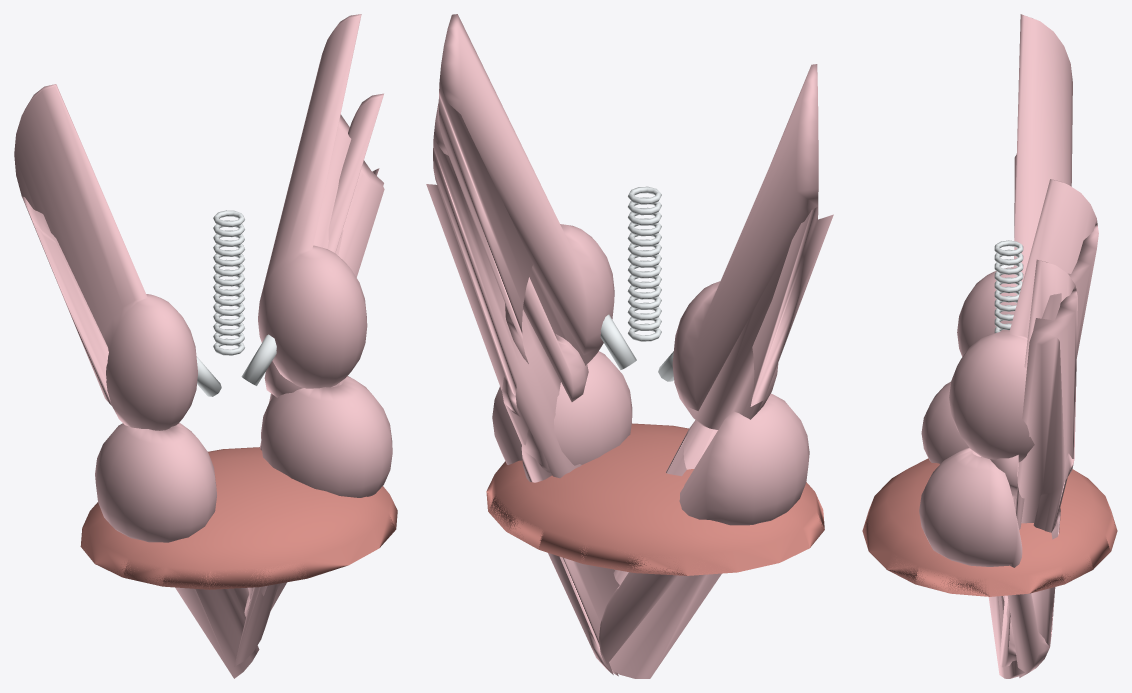
The model's file is Respiratory_System.fbx.
The picture shows the model from 3 angles, left to right: view 1: azimuth 30°, elevation 25°; view 2: azimuth 150°, elevation 25°; view 3: azimuth 270°, elevation 25°; orthographic projection. The views are drawn at different scales.
Parts seen in each view (by area): view 1: Lung_Left_2Lobes, Lung_Right_3Lobes, Diaphragm_Muscle, Trachea_Bronchi; view 2: Lung_Right_3Lobes, Lung_Left_2Lobes, Diaphragm_Muscle, Trachea_Bronchi; view 3: Lung_Right_3Lobes, Lung_Left_2Lobes, Diaphragm_Muscle, Trachea_Bronchi.
Boxes of the visible parts, bbox=[...] form: Lung_Left_2Lobes: bbox=[14, 84, 259, 678]; Lung_Right_3Lobes: bbox=[234, 14, 392, 666]; Diaphragm_Muscle: bbox=[80, 447, 397, 589]; Trachea_Bronchi: bbox=[196, 210, 276, 396]; Lung_Right_3Lobes: bbox=[426, 14, 632, 676]; Lung_Left_2Lobes: bbox=[599, 64, 833, 678]; Diaphragm_Muscle: bbox=[486, 423, 824, 575]; Trachea_Bronchi: bbox=[600, 186, 673, 381]; Lung_Right_3Lobes: bbox=[919, 179, 1098, 677]; Lung_Left_2Lobes: bbox=[921, 14, 1072, 678]; Diaphragm_Muscle: bbox=[862, 458, 1117, 596]; Trachea_Bronchi: bbox=[994, 240, 1023, 332].
Bounding box in the file's own units: 0.4185 × 0.6824 × 0.27.
